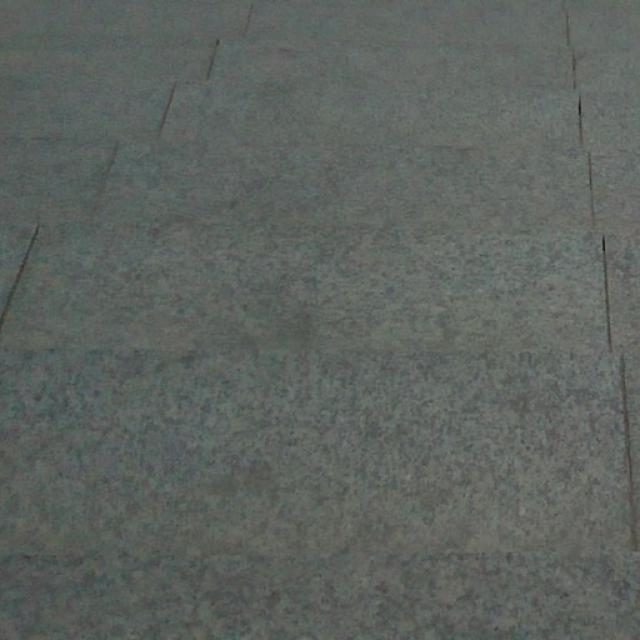stair: (20, 35, 640, 552)
